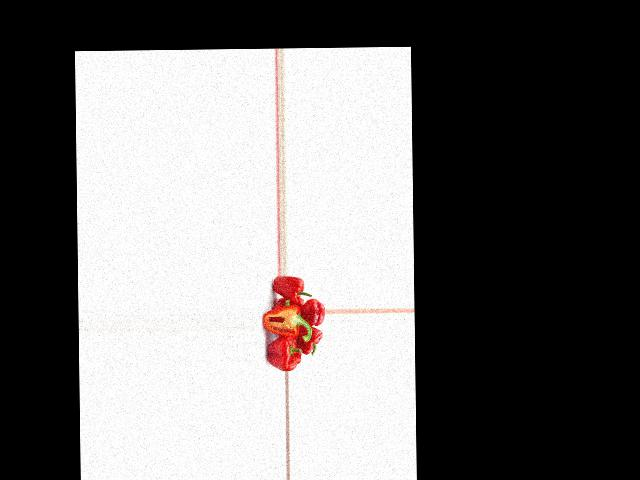bell_pepper: (298, 325, 323, 355)
